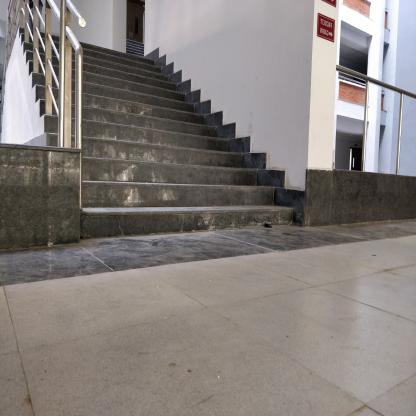stairs: (87, 52, 157, 244)
